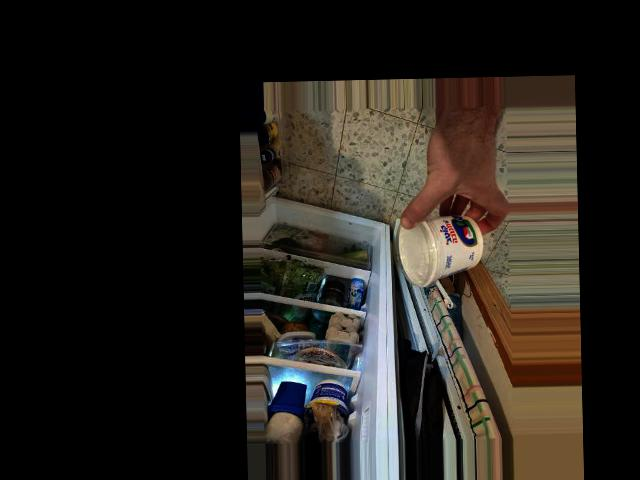cotage: (399, 207, 487, 285)
